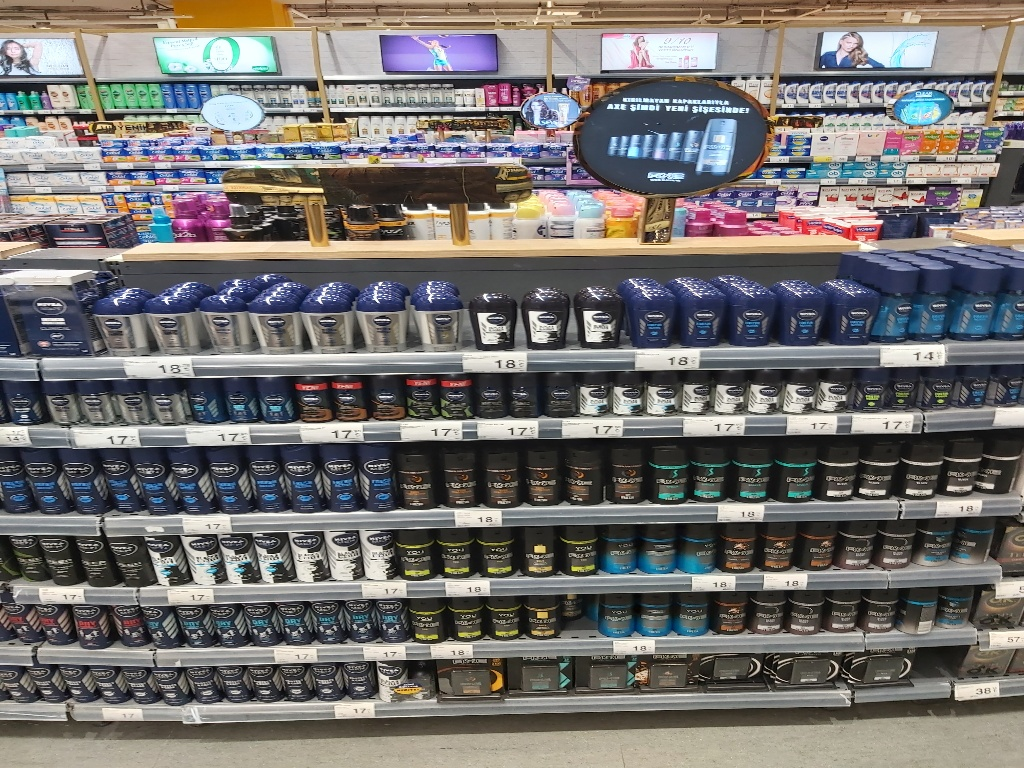urun: (146, 285, 200, 361), (301, 284, 355, 360), (961, 256, 1005, 349), (429, 659, 506, 712), (196, 278, 250, 353), (251, 282, 305, 357), (356, 282, 410, 357), (415, 282, 468, 357), (774, 282, 826, 351), (474, 273, 521, 349), (520, 285, 571, 355), (673, 276, 724, 346), (773, 650, 850, 696), (846, 645, 923, 691), (571, 283, 622, 352), (622, 279, 673, 348), (722, 280, 773, 349), (911, 262, 952, 346), (877, 261, 918, 344), (824, 287, 876, 349), (516, 653, 579, 704), (700, 646, 765, 694), (59, 444, 99, 521), (96, 447, 136, 524), (434, 654, 499, 701), (136, 443, 175, 520), (168, 445, 207, 522), (773, 435, 817, 503), (477, 436, 520, 504), (562, 439, 605, 507), (607, 435, 650, 503), (649, 435, 692, 503), (690, 434, 733, 502), (731, 434, 774, 502), (858, 430, 901, 498), (818, 433, 861, 500), (397, 443, 439, 511), (943, 431, 987, 495), (439, 442, 481, 509), (520, 442, 562, 509), (408, 589, 452, 650), (38, 534, 79, 598), (77, 532, 118, 596), (111, 527, 152, 591), (147, 532, 188, 596), (186, 529, 227, 593), (221, 534, 262, 598), (255, 530, 296, 594), (292, 529, 333, 593), (986, 429, 1024, 498), (317, 445, 355, 512), (358, 527, 401, 586), (518, 518, 561, 577), (559, 524, 602, 582), (207, 449, 244, 516), (247, 444, 284, 511), (356, 436, 393, 503), (325, 527, 367, 586), (398, 525, 440, 584), (433, 526, 475, 585), (474, 522, 516, 581), (603, 518, 645, 577), (636, 517, 678, 576), (680, 522, 722, 581), (717, 521, 759, 580), (762, 513, 804, 572), (799, 518, 841, 577), (841, 513, 883, 572), (877, 516, 919, 575), (910, 512, 952, 571), (955, 516, 997, 575), (448, 589, 490, 648), (278, 447, 315, 513), (73, 593, 111, 657), (27, 449, 60, 520), (114, 591, 151, 654), (145, 590, 182, 653), (1, 451, 33, 521), (215, 589, 250, 652), (243, 594, 278, 657), (588, 653, 639, 696), (93, 658, 132, 714), (177, 595, 211, 658), (375, 594, 411, 650), (310, 590, 343, 650), (58, 657, 99, 705), (38, 594, 73, 650), (595, 594, 635, 643), (786, 586, 826, 635), (864, 586, 904, 635), (278, 591, 310, 652), (397, 372, 438, 419), (434, 372, 475, 419), (498, 372, 539, 419), (713, 588, 753, 636), (746, 588, 786, 636), (123, 655, 156, 713), (826, 586, 865, 635), (8, 594, 42, 650), (3, 384, 44, 430), (41, 379, 82, 425), (111, 379, 152, 425), (142, 380, 183, 426), (180, 378, 221, 424), (218, 378, 259, 424), (255, 379, 296, 425), (291, 376, 332, 422), (328, 374, 369, 420), (466, 375, 507, 421), (538, 375, 579, 421), (575, 374, 616, 420), (603, 369, 644, 415), (640, 367, 681, 413), (364, 372, 404, 419), (639, 589, 678, 637), (675, 588, 714, 636), (76, 380, 116, 426), (344, 658, 381, 707), (486, 591, 522, 641), (525, 594, 561, 644), (940, 585, 978, 632), (4, 532, 38, 584), (155, 662, 193, 707), (187, 663, 225, 708), (957, 360, 995, 404), (739, 371, 776, 416), (781, 367, 818, 412), (810, 367, 847, 412), (854, 366, 891, 411), (886, 370, 923, 415), (924, 370, 961, 415), (346, 591, 378, 643), (312, 657, 346, 705), (680, 369, 717, 413), (712, 369, 749, 413), (987, 364, 1024, 408), (244, 659, 276, 708), (279, 659, 311, 708), (37, 658, 67, 709), (1, 659, 29, 710), (909, 588, 940, 634), (221, 662, 246, 713)
urun2: (93, 285, 147, 361)
